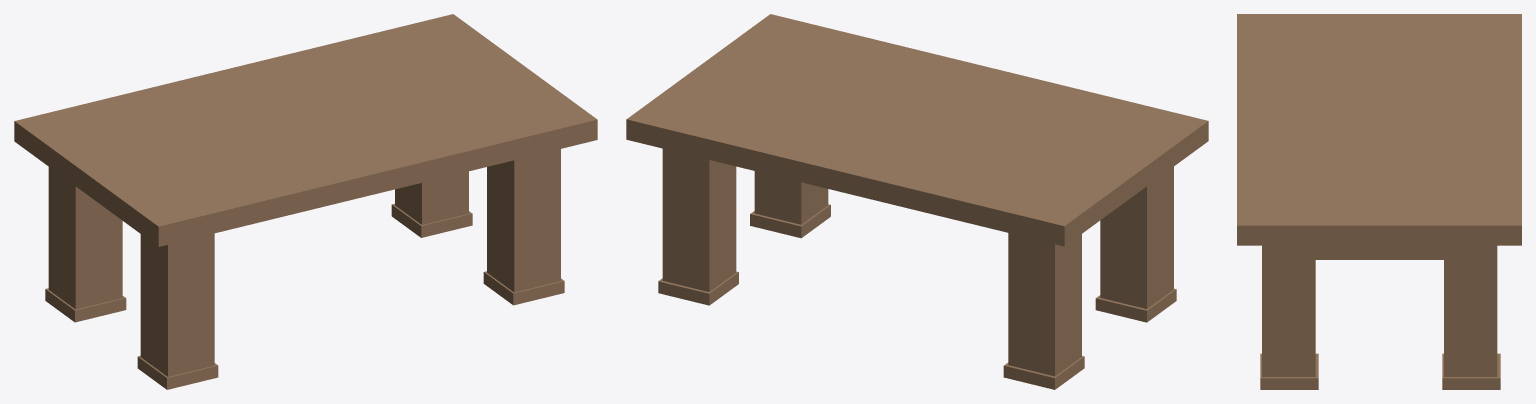
Rendered from Table.fbx.
3 views of the same model, side by side, from view 1: azimuth 30°, elevation 25°; view 2: azimuth 150°, elevation 25°; view 3: azimuth 270°, elevation 25° (orthographic).
Parts seen in each view (by area): view 1: pCube13; view 2: pCube13; view 3: pCube13.
Boxes of the visible parts, <box> form: pCube13: <box>14,14,597,389</box>; pCube13: <box>626,14,1208,389</box>; pCube13: <box>1237,14,1521,389</box>.
Size of the model in its own units: 4.82 by 1.86 by 2.75.
